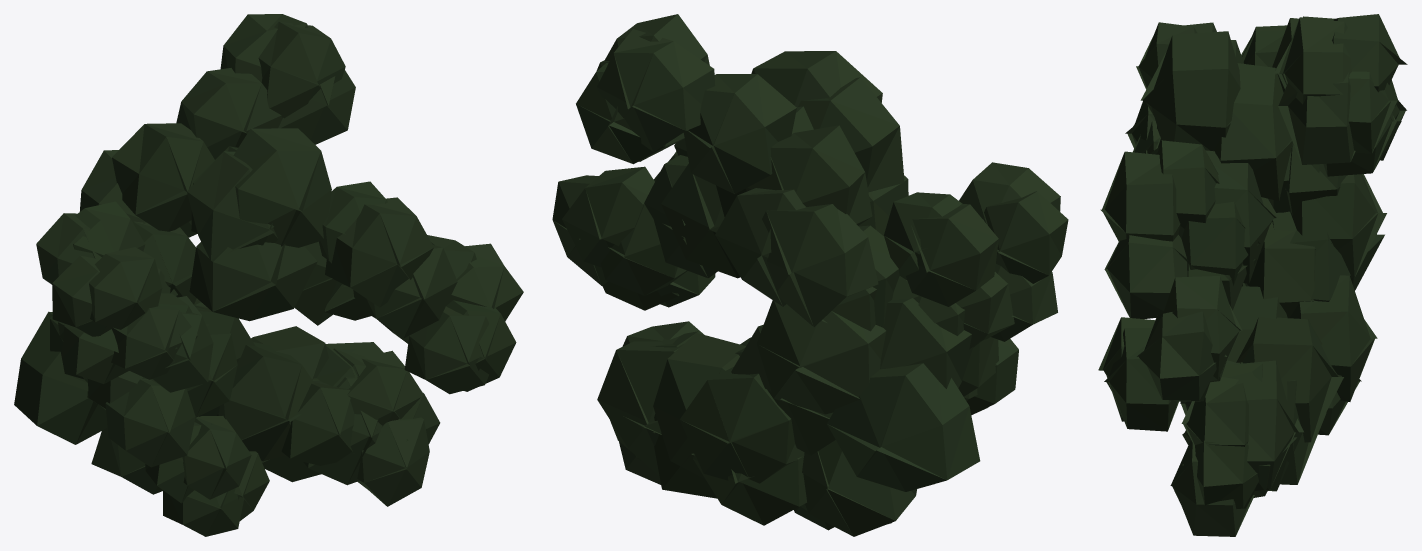
The model's file is tree_m12_far.obj.
3 views of the same model, side by side, from view 1: azimuth 30°, elevation 25°; view 2: azimuth 150°, elevation 25°; view 3: azimuth 270°, elevation 25° (orthographic). The views are drawn at different scales.
Size of the model in its own units: 1.69 by 1.61 by 0.9281.
Materials: 1 (1 with a texture image).
